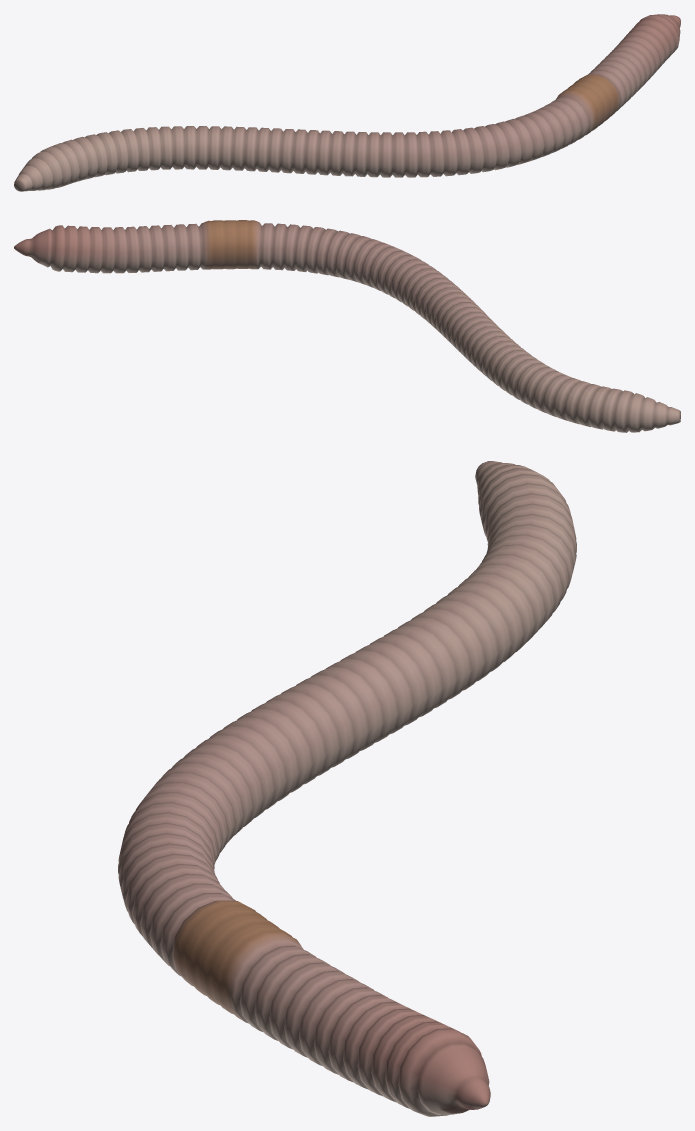
The model's file is earthworm-topsoil.glb.
3 views of the same model, one above another, from view 1: azimuth 30°, elevation 25°; view 2: azimuth 150°, elevation 25°; view 3: azimuth 270°, elevation 25° (orthographic). The views are drawn at different scales.
Parts seen in each view (by area): view 1: earthworm-topsoil; view 2: earthworm-topsoil; view 3: earthworm-topsoil.
Part boxes in pixels (x1=…): earthworm-topsoil: x1=14, y1=14, x2=680, y2=191; earthworm-topsoil: x1=14, y1=220, x2=680, y2=432; earthworm-topsoil: x1=118, y1=461, x2=576, y2=1116.
Size of the model in its own units: 0.8886 by 0.0584 by 0.2663.
